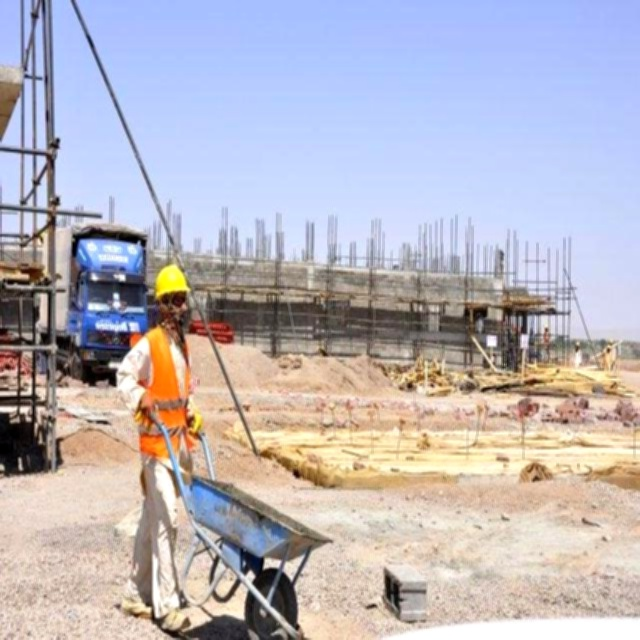goggles: (445, 292, 487, 317)
helmet: (447, 256, 491, 303)
vest: (451, 327, 510, 456)
